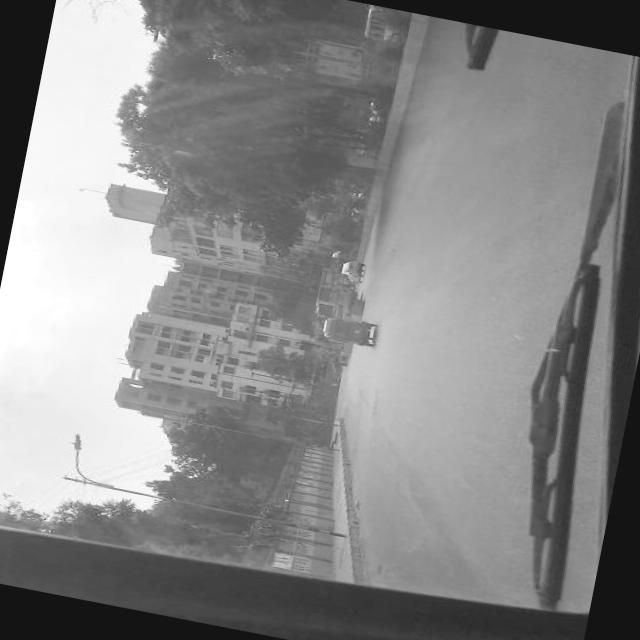bus: (356, 3, 401, 45), (314, 282, 354, 320)
car: (340, 260, 360, 284)
motorcycle: (322, 313, 374, 347)
